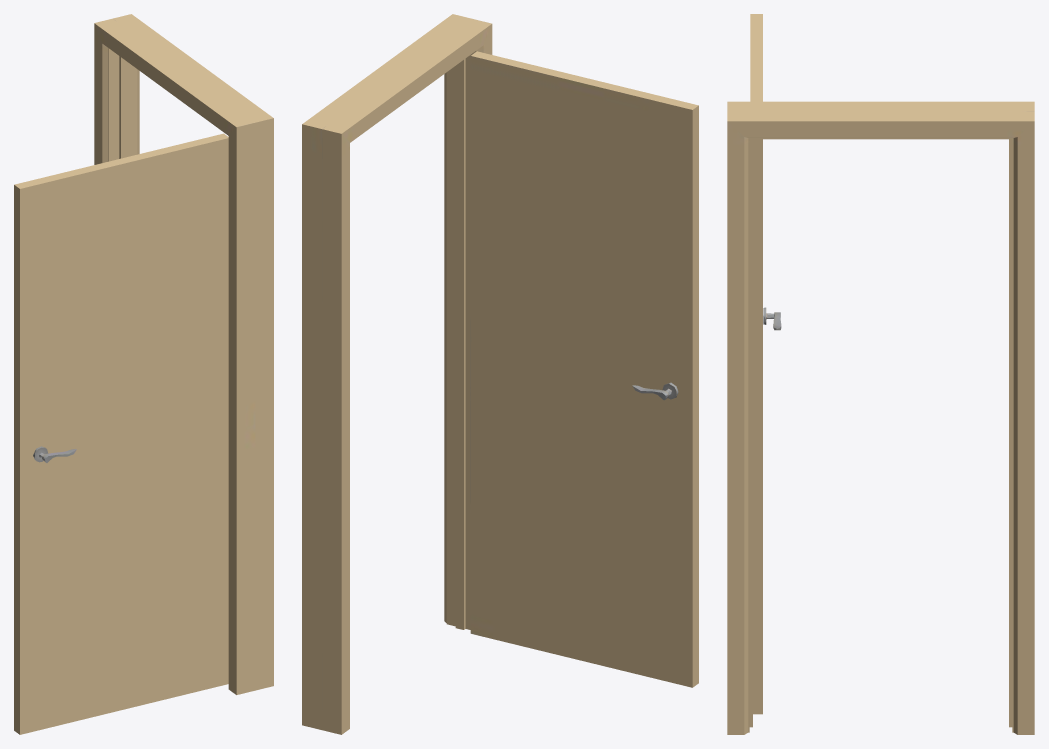
File: Door0021open.obj
The picture shows the model from 3 angles, left to right: view 1: azimuth 30°, elevation 25°; view 2: azimuth 150°, elevation 25°; view 3: azimuth 270°, elevation 25°; orthographic projection. The views are drawn at different scales.
Bounding box in the file's own units: 0.951 × 2.12 × 0.964.
Materials: 1 (1 with a texture image).
